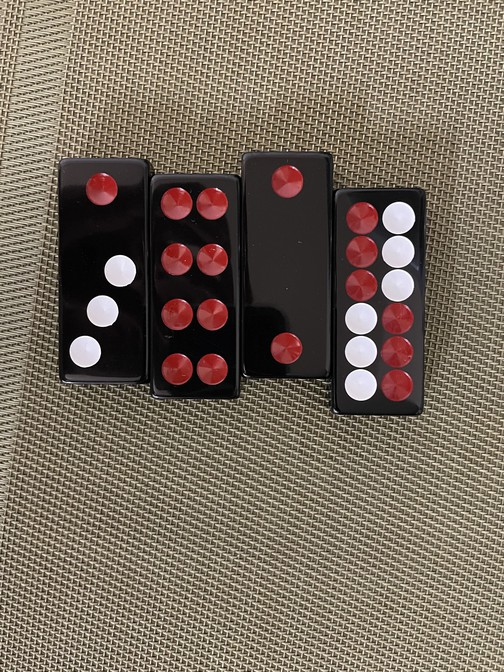earth: (240, 151, 334, 380)
goose: (48, 157, 153, 386)
heaven: (331, 188, 423, 417)
man: (150, 177, 242, 398)
